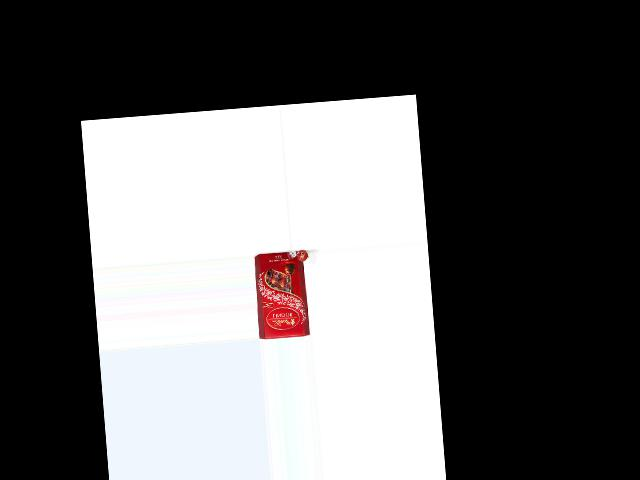chocolate: (254, 250, 315, 339)
